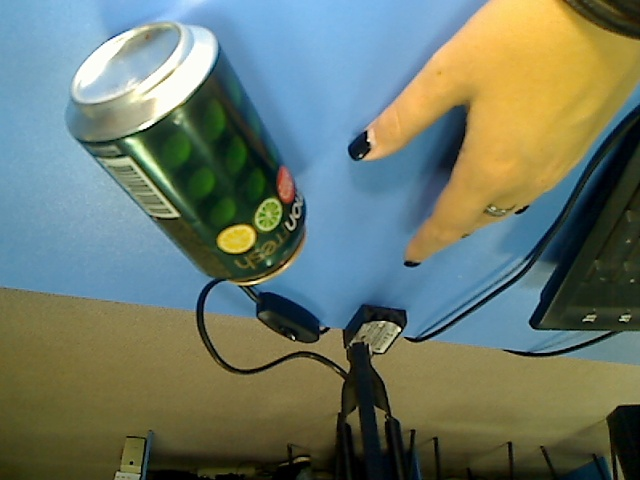can: (62, 19, 315, 287)
